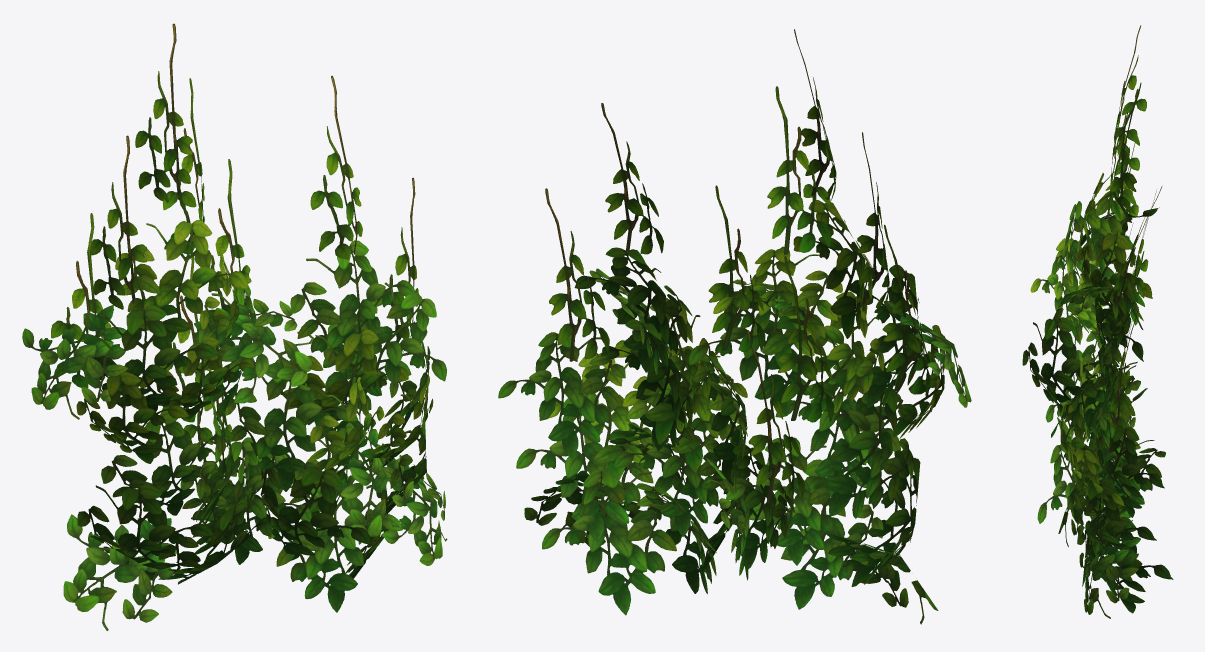
File: wm_灌木洛阳城花草07.fbx
3 views of the same model, side by side, from view 1: azimuth 30°, elevation 25°; view 2: azimuth 150°, elevation 25°; view 3: azimuth 270°, elevation 25° (orthographic). The views are drawn at different scales.
Parts seen in each view (by area): view 1: wm_灌木洛阳城花草07; view 2: wm_灌木洛阳城花草07; view 3: wm_灌木洛阳城花草07.
Boxes of the visible parts, x1,y1,x2,y2 form: wm_灌木洛阳城花草07: (22, 23, 447, 630); wm_灌木洛阳城花草07: (498, 29, 971, 624); wm_灌木洛阳城花草07: (1022, 25, 1173, 618).
Bounding box in the file's own units: 190 × 258 × 79.44.
